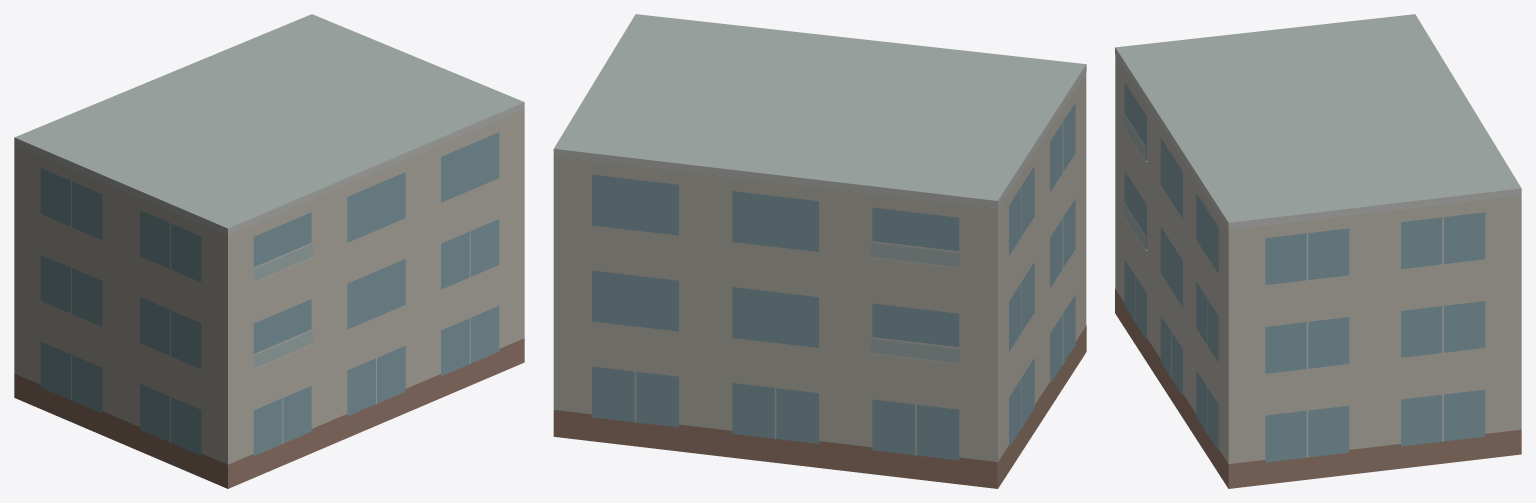
Rendered from survey-upis-32762057.glb.
3 views of the same model, side by side, from view 1: azimuth 30°, elevation 25°; view 2: azimuth 150°, elevation 25°; view 3: azimuth 270°, elevation 25° (orthographic). The views are drawn at different scales.
Visible parts, largest first — view 1: survey-upis-32762057.tmp; view 2: survey-upis-32762057.tmp; view 3: survey-upis-32762057.tmp.
Part boxes in pixels (bbox=[...]): survey-upis-32762057.tmp: bbox=[14, 14, 524, 488]; survey-upis-32762057.tmp: bbox=[553, 14, 1086, 488]; survey-upis-32762057.tmp: bbox=[1115, 14, 1521, 488].
Size of the model in its own units: 15.42 by 9.15 by 12.68.
